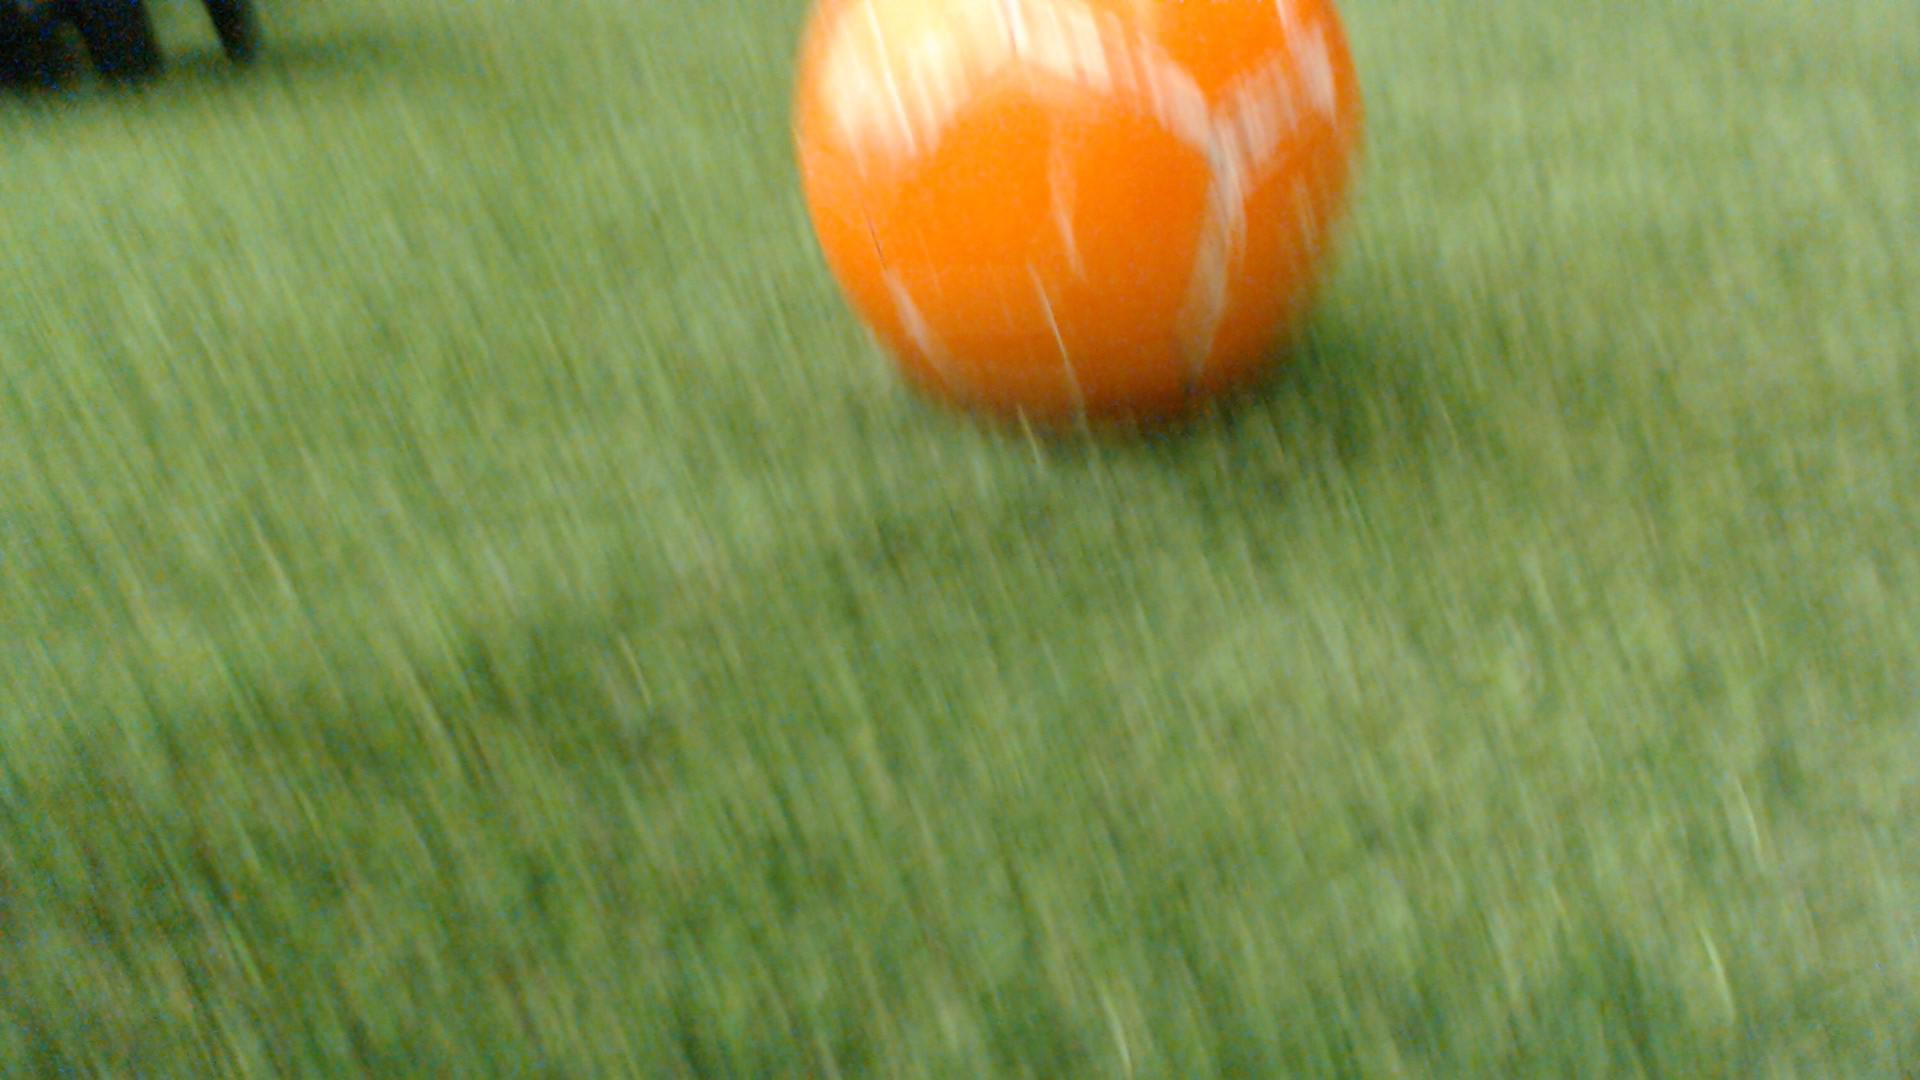bola: (761, 0, 1425, 479)
